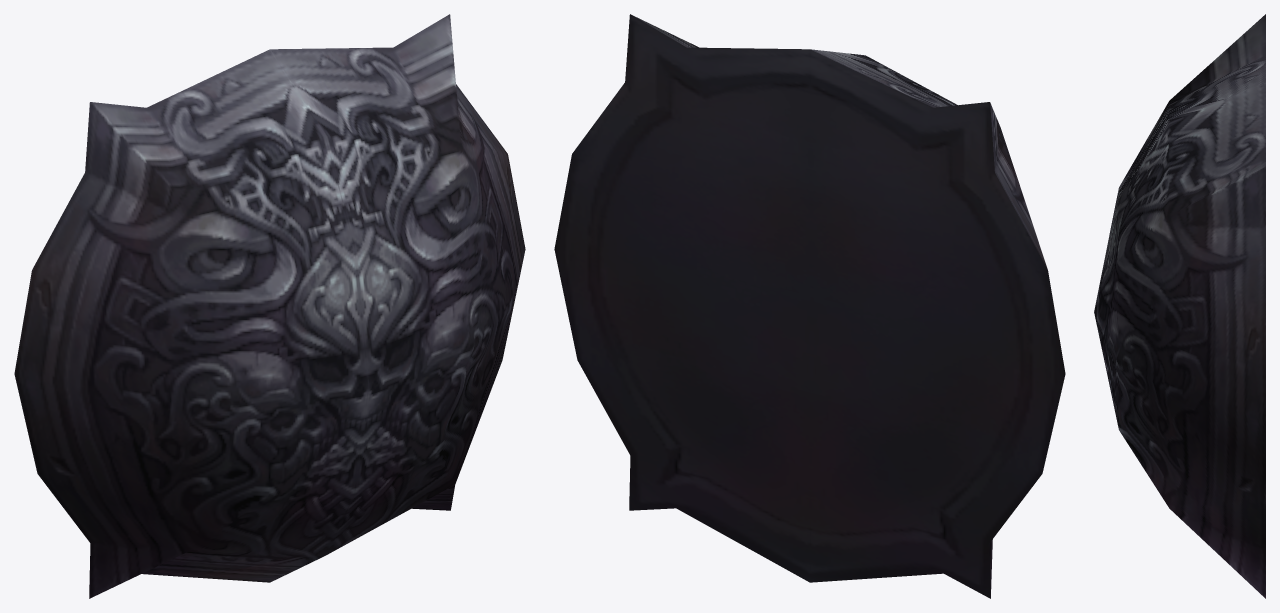
Rendered from fb_csd_zj_08.FBX.
3 views of the same model, side by side, from view 1: azimuth 30°, elevation 25°; view 2: azimuth 150°, elevation 25°; view 3: azimuth 270°, elevation 25° (orthographic). The views are drawn at different scales.
Visible parts, largest first — view 1: fb_csd_zj_08; view 2: fb_csd_zj_08; view 3: fb_csd_zj_08.
Part boxes in pixels (x1,y1,x2,y2): fb_csd_zj_08: (14,14,525,598); fb_csd_zj_08: (554,14,1065,598); fb_csd_zj_08: (1094,14,1265,598).
Size of the model in its own units: 510 by 508 by 171.
